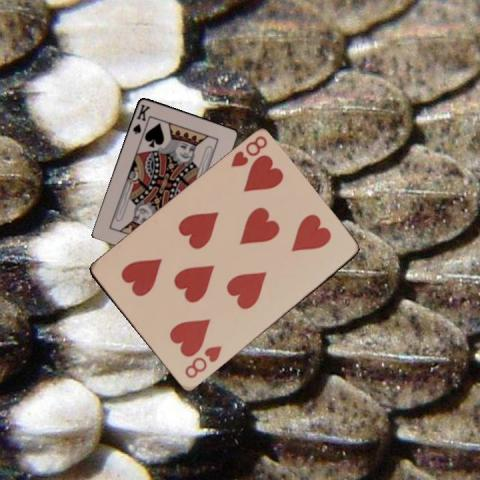8h: (182, 343, 224, 380), (227, 133, 269, 169)
Ks: (130, 102, 152, 136)
